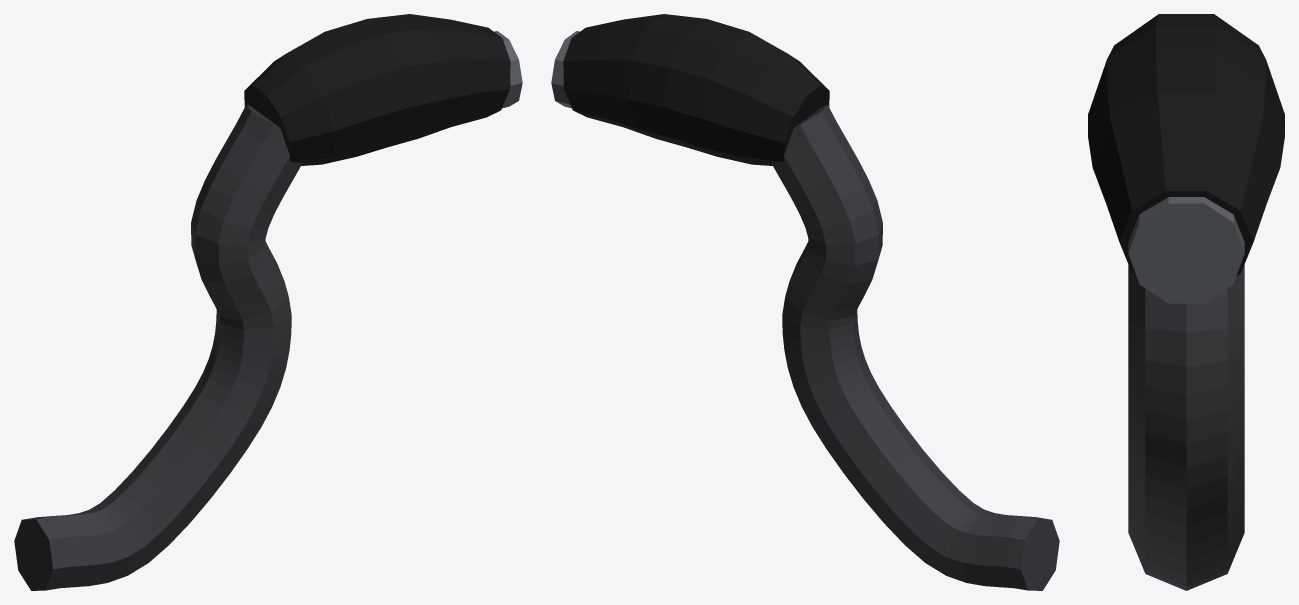
The model's file is MinidoracatTesla_CablePlugCybercab.fbx.
The picture shows the model from 3 angles, left to right: view 1: azimuth 30°, elevation 25°; view 2: azimuth 150°, elevation 25°; view 3: azimuth 270°, elevation 25°; orthographic projection. The views are drawn at different scales.
Visible parts, largest first — view 1: MinidoracatTesla_CablePlugCybercab; view 2: MinidoracatTesla_CablePlugCybercab; view 3: MinidoracatTesla_CablePlugCybercab.
Part boxes in pixels (<box>): MinidoracatTesla_CablePlugCybercab: <box>14,14,522,590</box>; MinidoracatTesla_CablePlugCybercab: <box>551,14,1059,590</box>; MinidoracatTesla_CablePlugCybercab: <box>1088,14,1284,590</box>.
Bounding box in the file's own units: 0.3639 × 0.3593 × 0.088.
